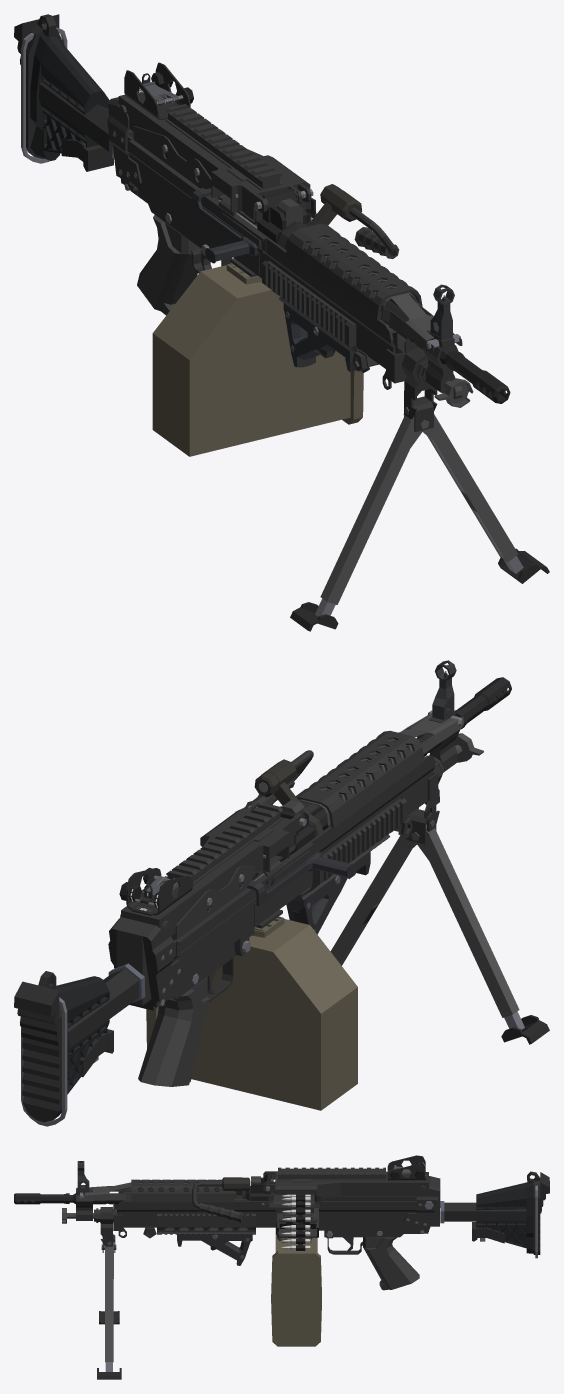
File: machine_gun.fbx
The picture shows the model from 3 angles, top to bottom: view 1: azimuth 30°, elevation 25°; view 2: azimuth 150°, elevation 25°; view 3: azimuth 270°, elevation 25°; orthographic projection. The views are drawn at different scales.
Visible parts, largest first — view 1: machine_gun; view 2: machine_gun; view 3: machine_gun.
Part boxes in pixels (x1,y1,x2,y2): machine_gun: (14,14,549,631); machine_gun: (14,660,549,1126); machine_gun: (14,1155,549,1379).
Bounding box in the file's own units: 27.26 × 36.22 × 92.61.
